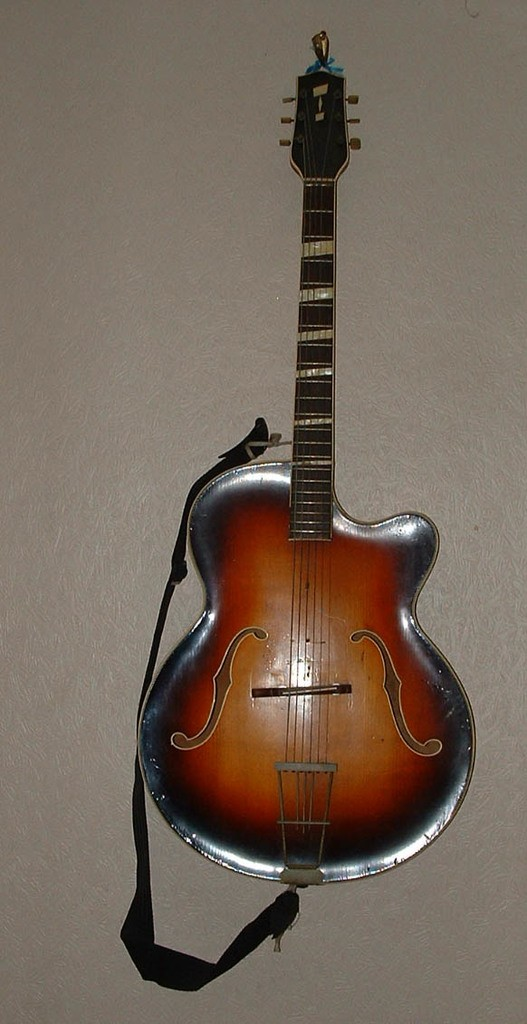guitar: (119, 29, 477, 992)
